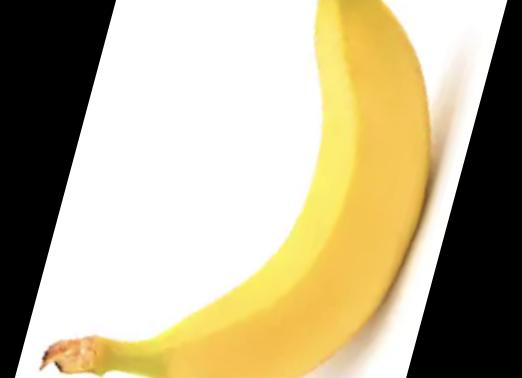Banana Ripe: (31, 0, 452, 378)
